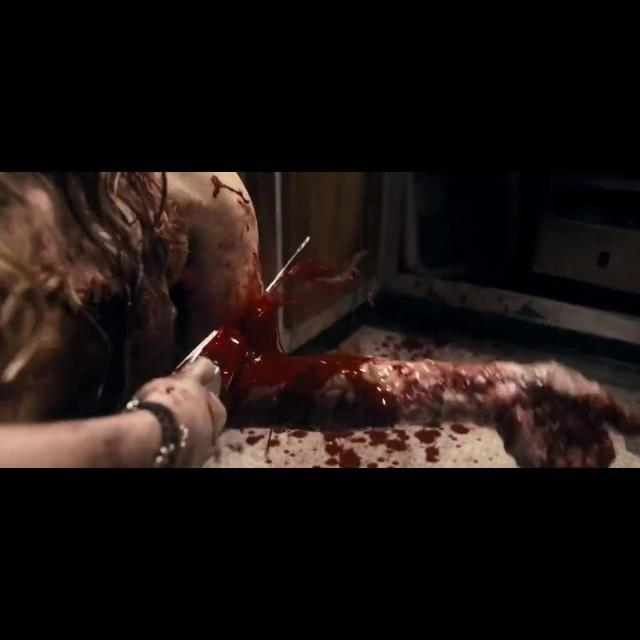blood: (200, 173, 640, 468)
